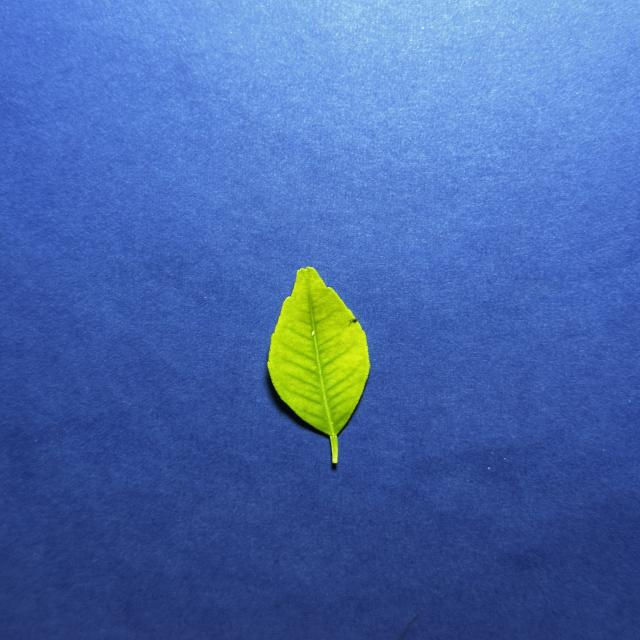greening: (268, 267, 370, 463)
